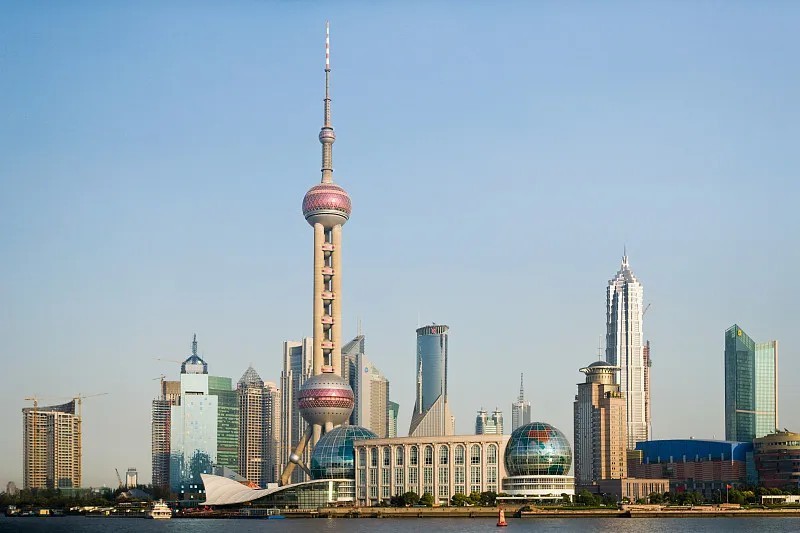Oriental: (278, 19, 354, 485)
